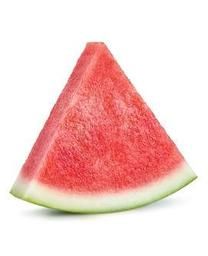watermelon: (10, 39, 197, 216)
